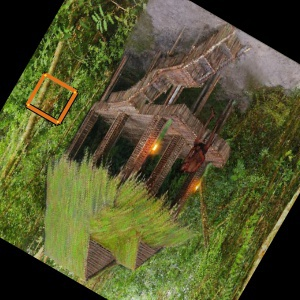square: (23, 71, 80, 127)
